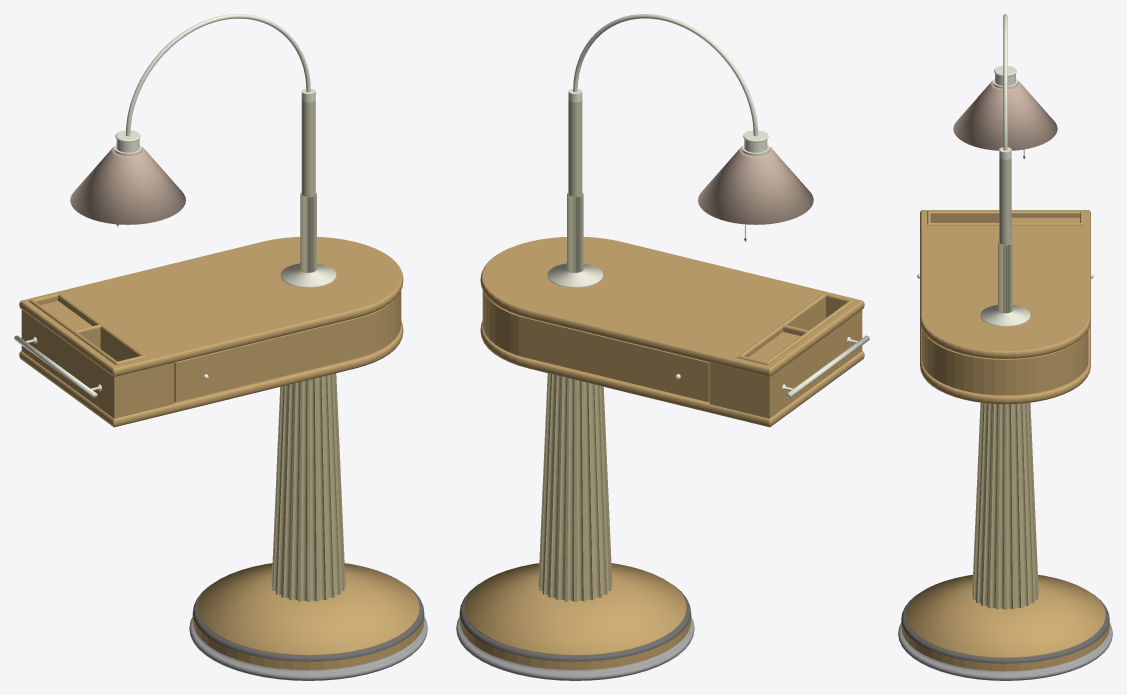
File: talo.dae
3 renders of one model, left to right at view 1: azimuth 30°, elevation 25°; view 2: azimuth 150°, elevation 25°; view 3: azimuth 270°, elevation 25°, orthographic. The views are drawn at different scales.
Visible parts, largest first — view 1: riga, base, corpo, fusto, paraluce, piede, portaoggetti, arco, bordo, bastone, zigrinato, piatto (+1 smaller); view 2: riga, base, corpo, fusto, paraluce, piede, portaoggetti, arco, bordo, bastone, zigrinato, piatto (+1 smaller); view 3: riga, base, fusto, corpo, paraluce, piede, portaoggetti, bordo, arco, bastone, zigrinato, piatto.
Boxes of the visible parts, x1,y1,x2,y2 form: riga: (19,237,403,427); base: (192,563,424,670); corpo: (21,290,401,418); fusto: (271,373,345,601); paraluce: (70,147,185,224); piede: (189,617,427,680); portaoggetti: (29,293,146,365); arco: (114,14,315,155); bordo: (193,584,424,661); bastone: (301,100,315,196); zigrinato: (300,192,316,272); piatto: (280,263,336,287); riga: (480,237,864,427); base: (459,563,691,670); corpo: (482,290,862,418); fusto: (538,373,612,601); paraluce: (698,147,813,224); piede: (456,617,694,680); portaoggetti: (737,293,854,365); arco: (568,14,769,155); bordo: (459,584,690,661); bastone: (568,100,582,196); zigrinato: (567,192,583,272); piatto: (547,263,603,287); riga: (920,210,1090,404); base: (901,575,1109,671); fusto: (972,402,1038,609); corpo: (922,329,1088,395); paraluce: (953,81,1057,150); piede: (898,623,1112,680); portaoggetti: (927,211,1083,225); bordo: (901,594,1109,663); arco: (993,14,1017,159); bastone: (999,158,1011,244); zigrinato: (998,241,1012,313); piatto: (980,305,1030,326).
Bounding box in the file's own units: 0.8935 × 0.515 × 1.53.
